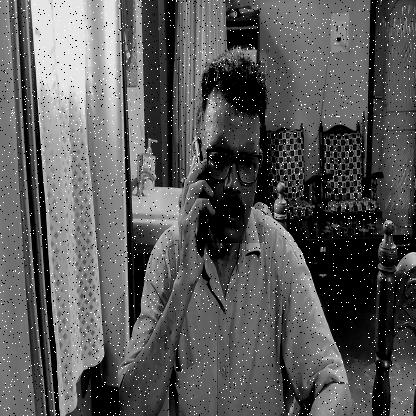Normal: (202, 63, 265, 243)
